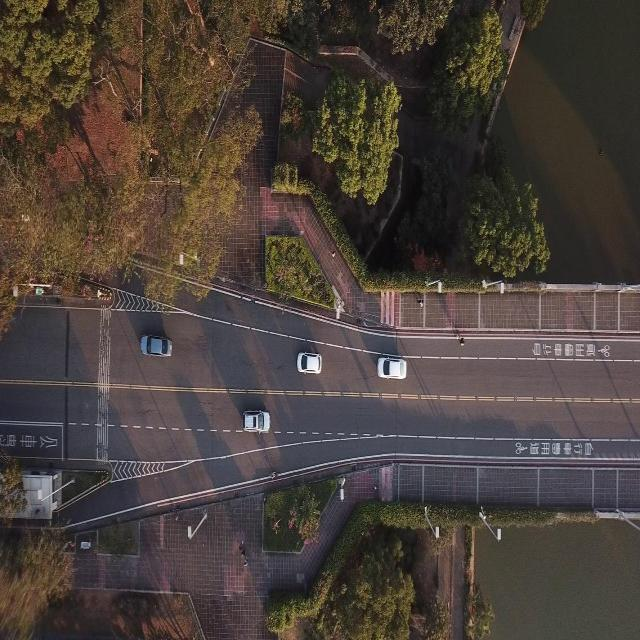bike: (268, 469, 280, 482)
car: (139, 333, 172, 356), (377, 354, 407, 379), (243, 408, 270, 432), (295, 351, 322, 374)
